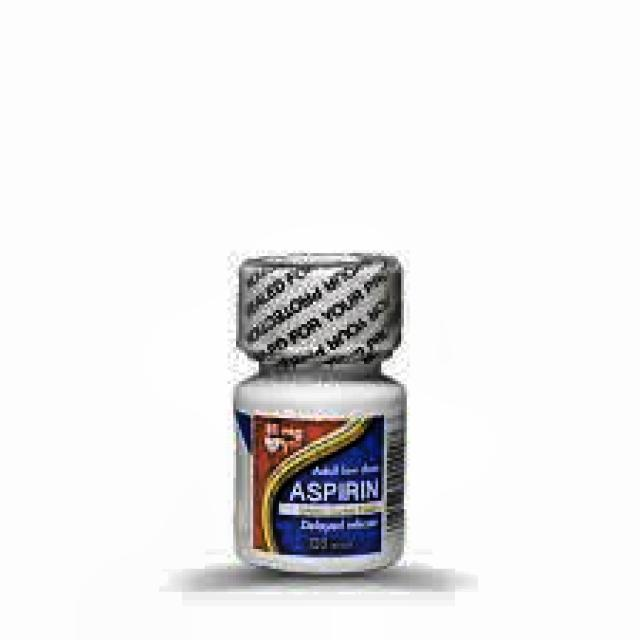Aspirin: (277, 460, 391, 519)
